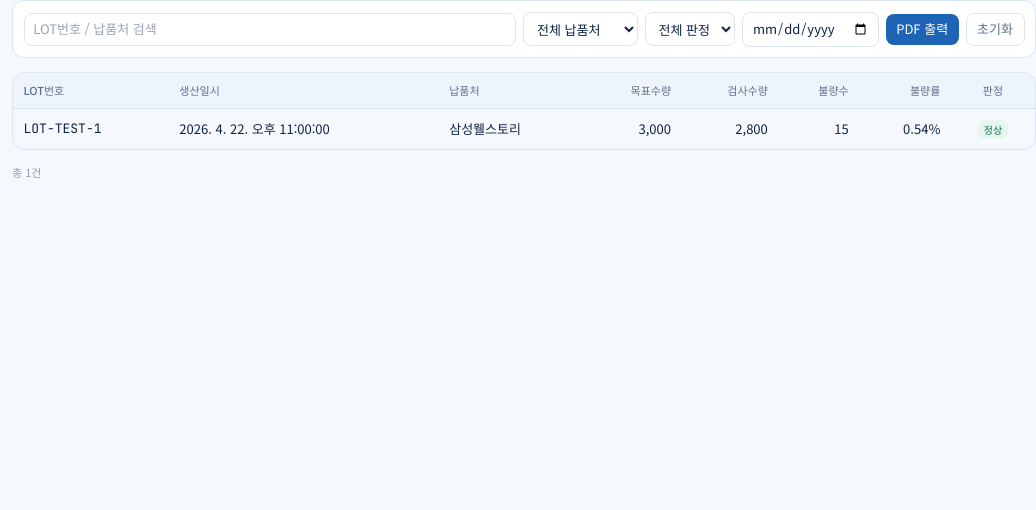
Test: LotHistoryPage › opens detail panel on row click
The image size is (1036, 510).
Click the text "LOT-TEST-1": (62, 129) left=24, top=120, right=102, bottom=137
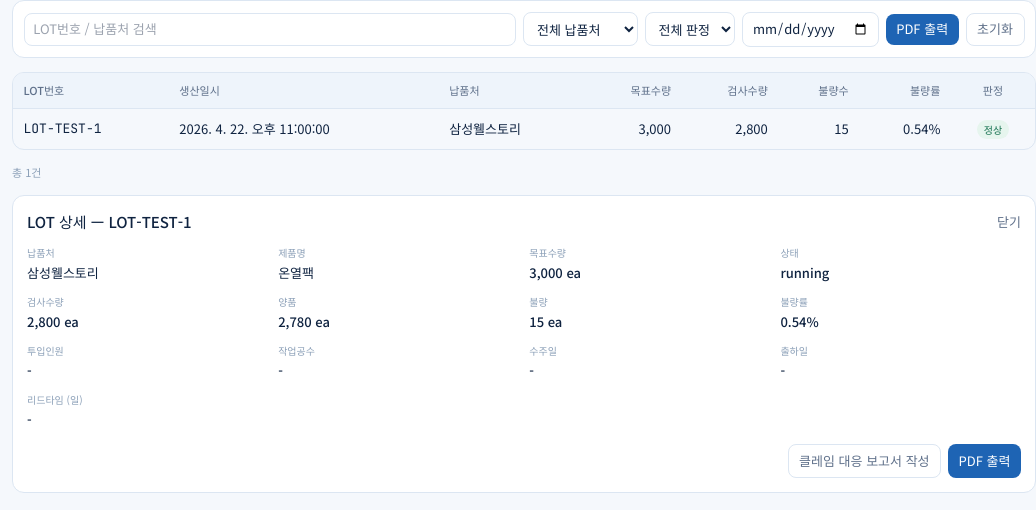
Now the text "LOT 상세 — LOT-TEST-1" is shown, box left=27, top=210, right=192, bottom=234
